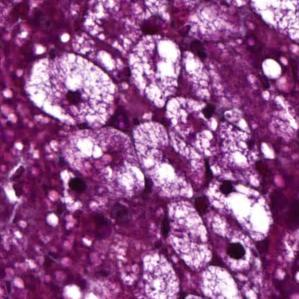ballooning: (24, 51, 120, 128), (204, 177, 276, 244), (126, 31, 185, 112), (158, 195, 215, 275), (163, 94, 223, 149)
